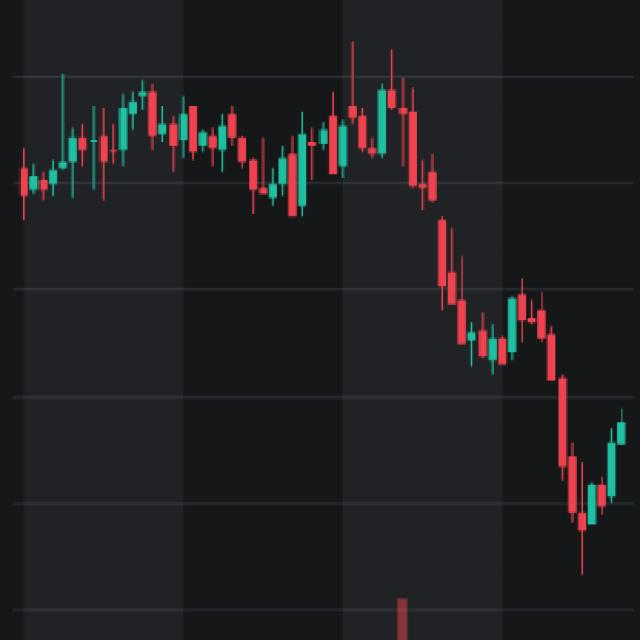Support-breakout: (274, 48, 588, 546)
